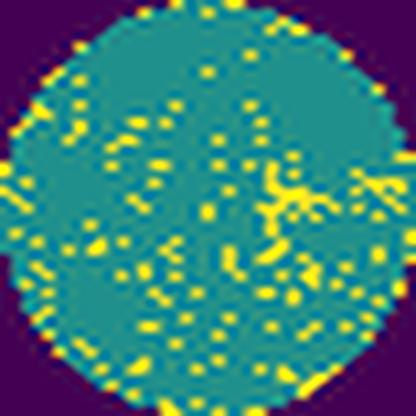Loc: (254, 158, 336, 241)
